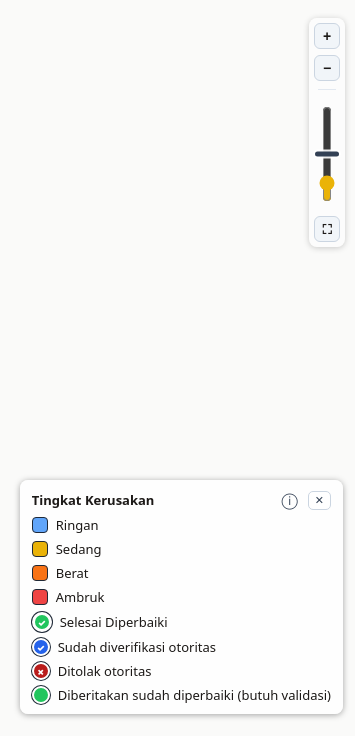
Test case: MapView: legenda ikut tampil saat popup titik terbuka (zoom dalam) › saat popup terbuka, tombol ✕ tetap bisa menyembunyikan legenda (pilihan user menang)
The width and height of the screenshot is (355, 736).
Step 1. Click the button named "sembunyikan legenda" → (319, 500), box [308,490,331,510]
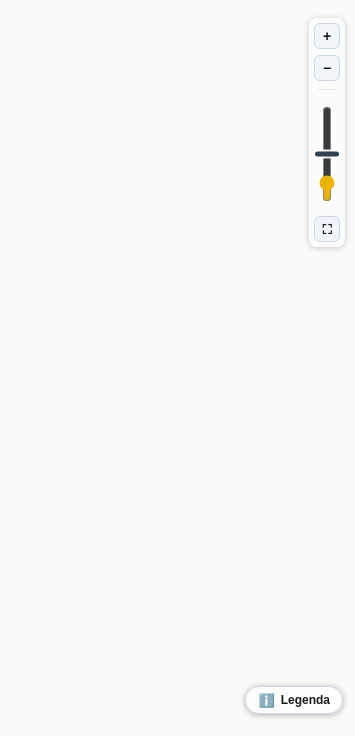
Now the button "ℹ️ Legenda" is shown, box [245,686,343,714]
